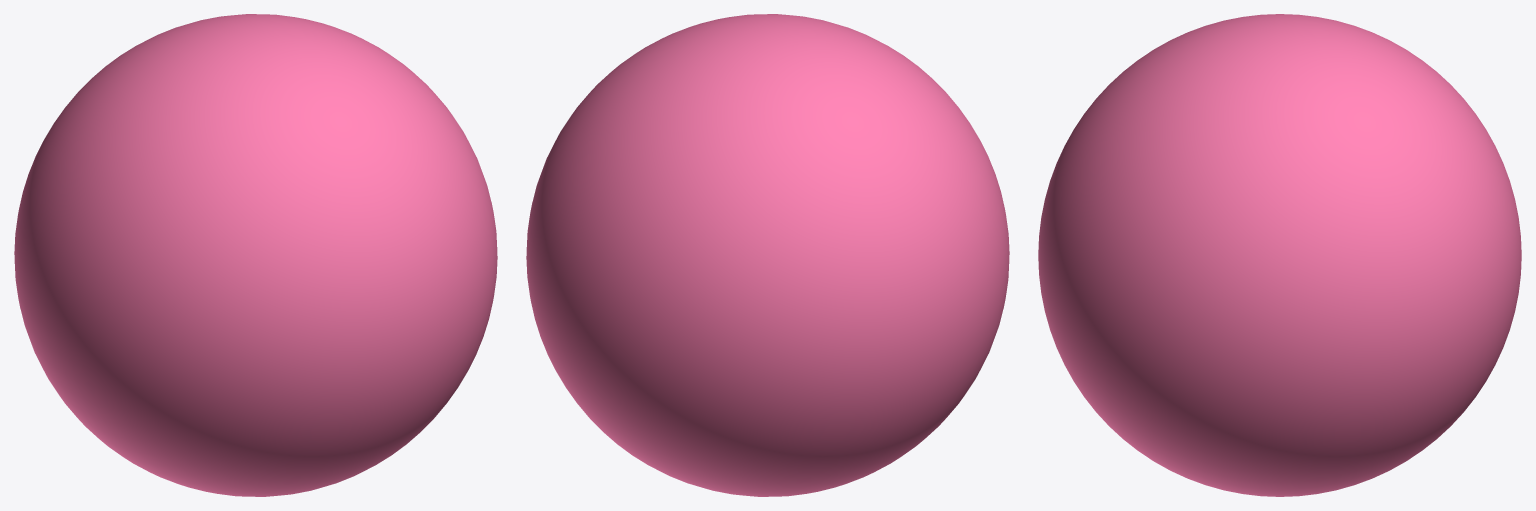
Rendered from ball-dotted-ff80b3.glb.
The picture shows the model from 3 angles, left to right: view 1: azimuth 30°, elevation 25°; view 2: azimuth 150°, elevation 25°; view 3: azimuth 270°, elevation 25°; orthographic projection.
Parts seen in each view (by area): view 1: ball; view 2: ball; view 3: ball.
Part boxes in pixels (left/top/right/bottom): ball: left=14, top=14, right=497, bottom=496; ball: left=526, top=14, right=1009, bottom=496; ball: left=1038, top=14, right=1521, bottom=496.
Bounding box in the file's own units: 0.0655 × 0.0655 × 0.0655.
